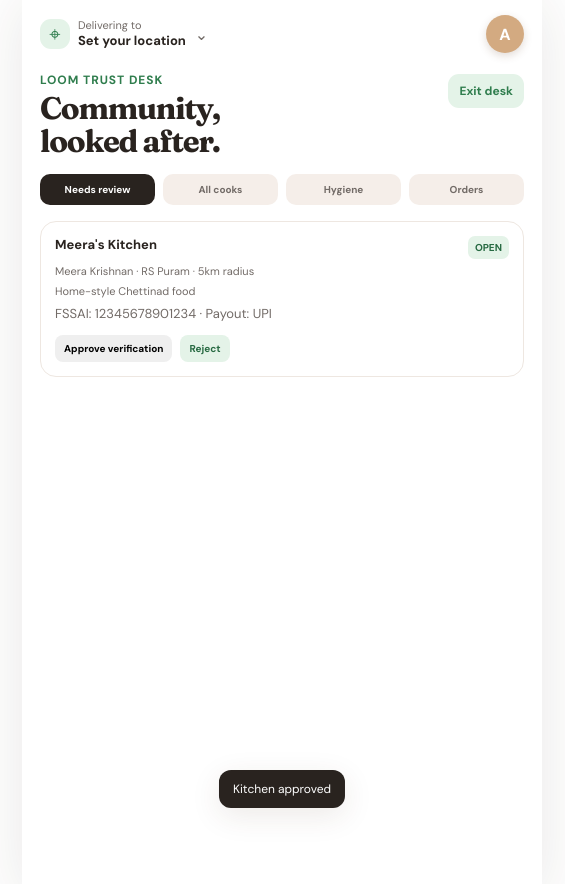
Admin moderation flow (approve/reject a real kitchen application) › rejects a kitchen application with a reason and removes it from the queue
This screenshot has width=565, height=884.
Expected: the heading "Meera's Kitchen" is shown, [55,236,157,259]
Click the button "Reject" at (205, 349), box [180,335,230,362]
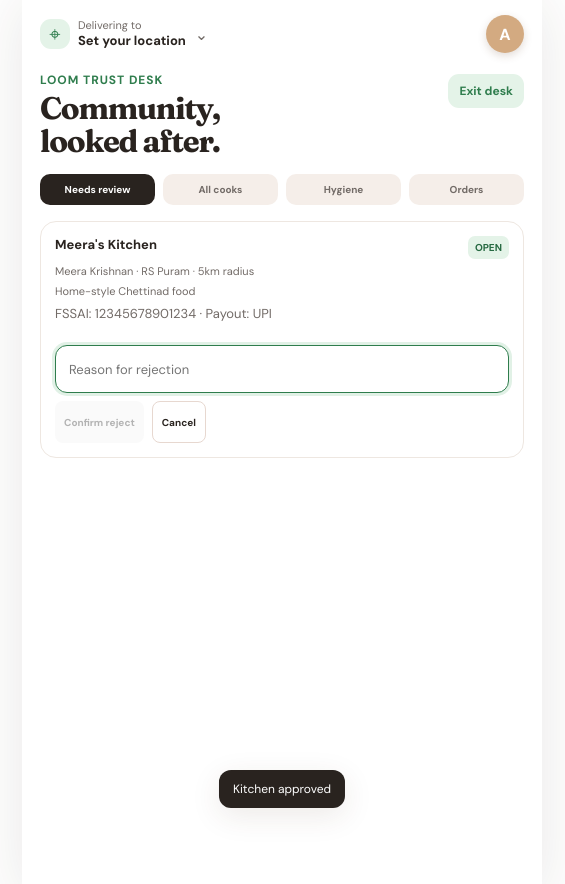
Type "FSSAI document is illegible" into the field with placeholder "Reason for rejection" at (282, 369), box [55,345,509,393]
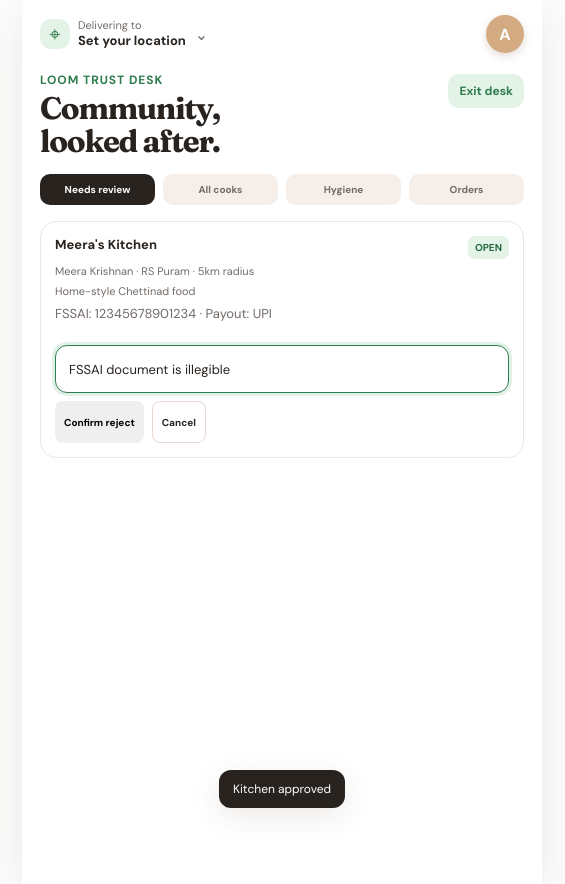
Click the button "Confirm reject" at (99, 422), box [55,401,144,443]
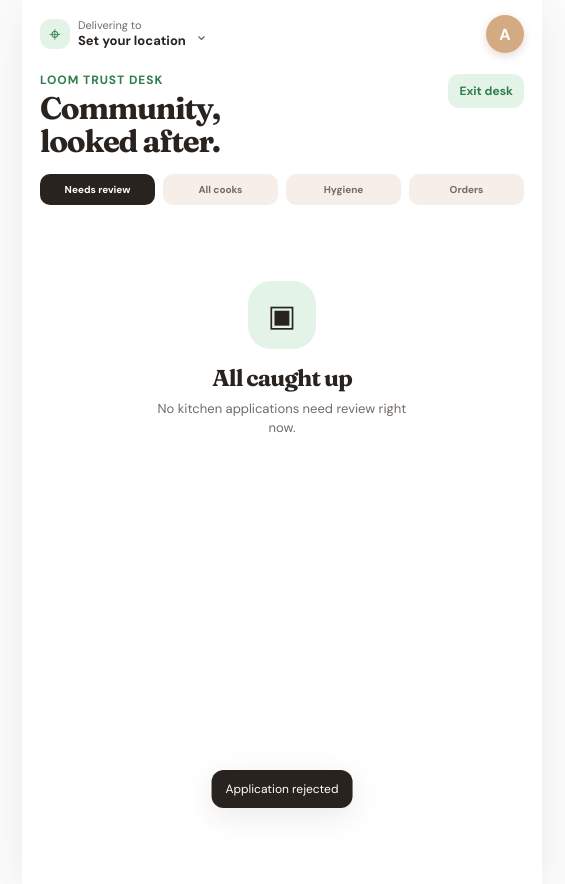
Now the heading "All caught up" is shown, box [212,364,352,392]
